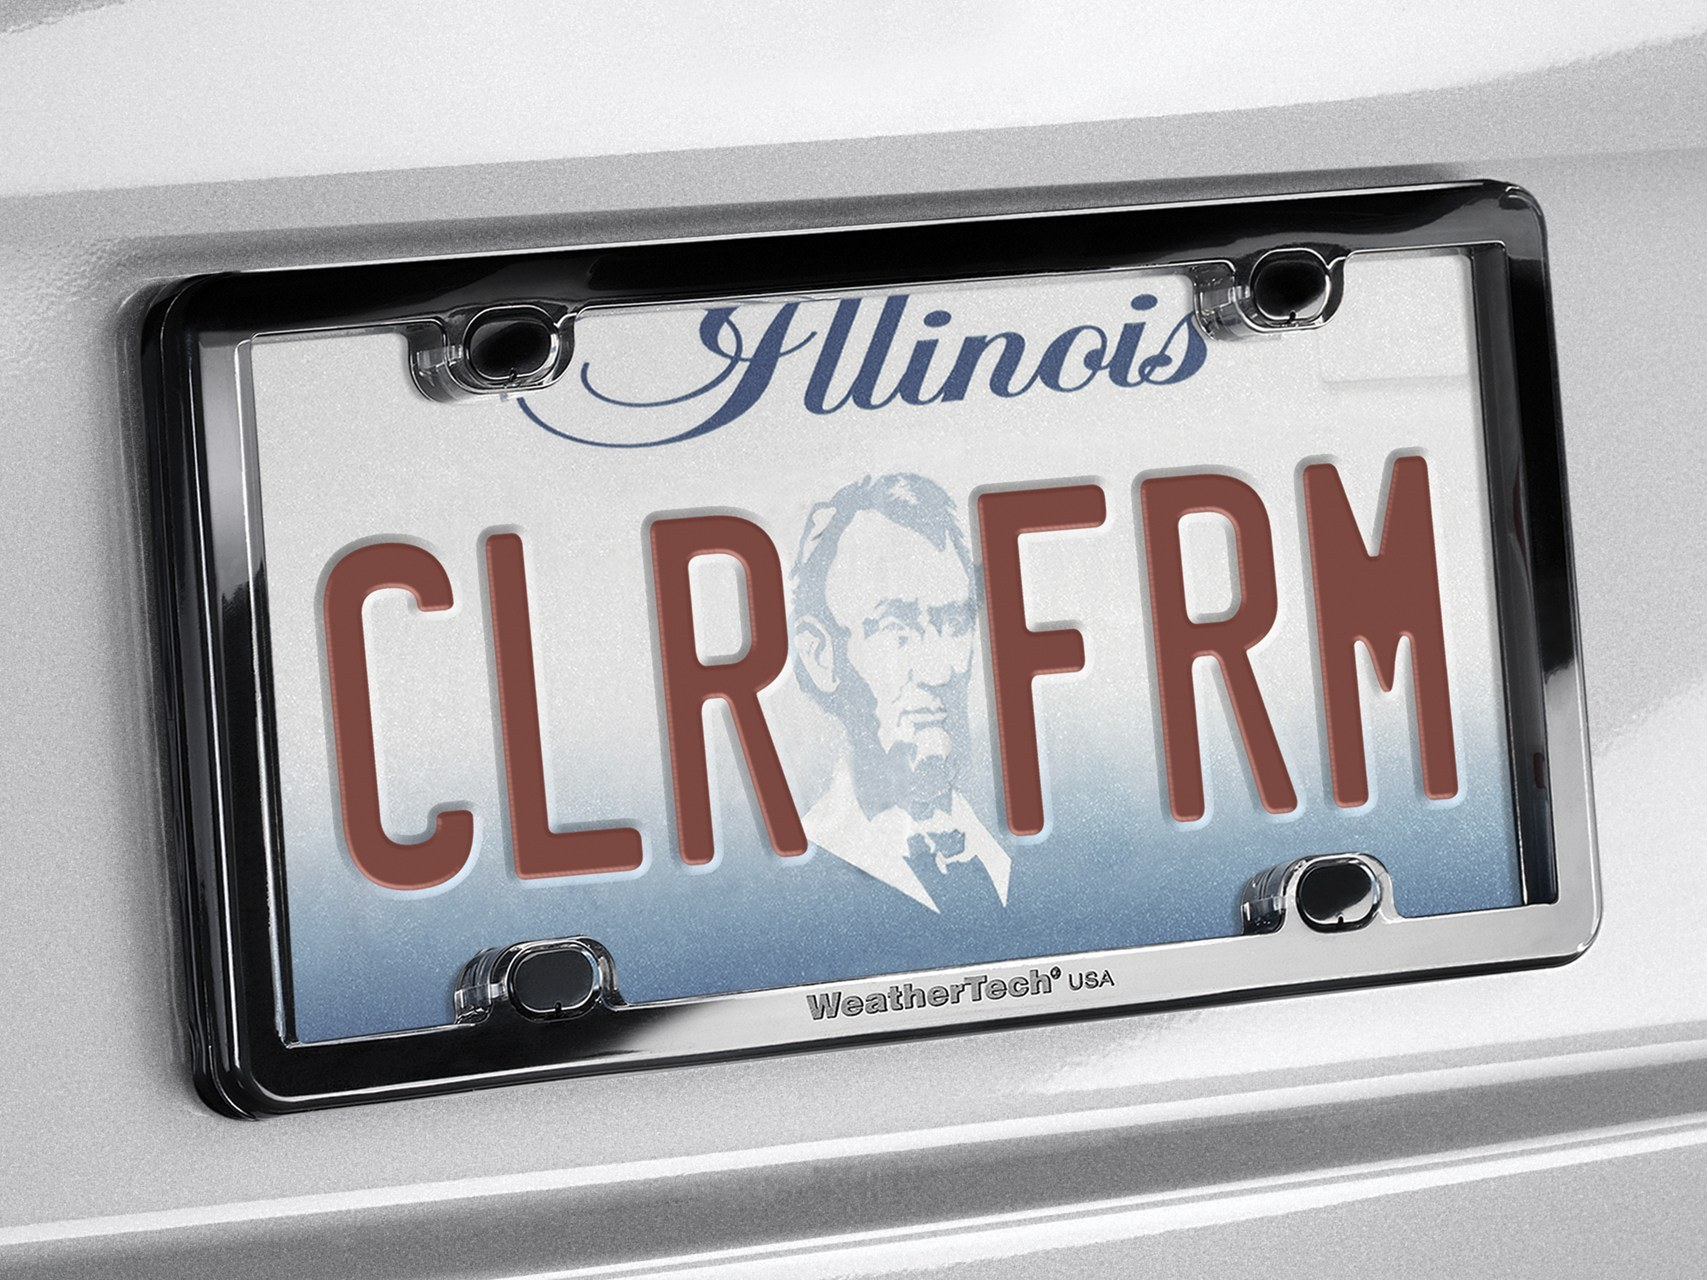license plate: (125, 267, 1633, 1026)
